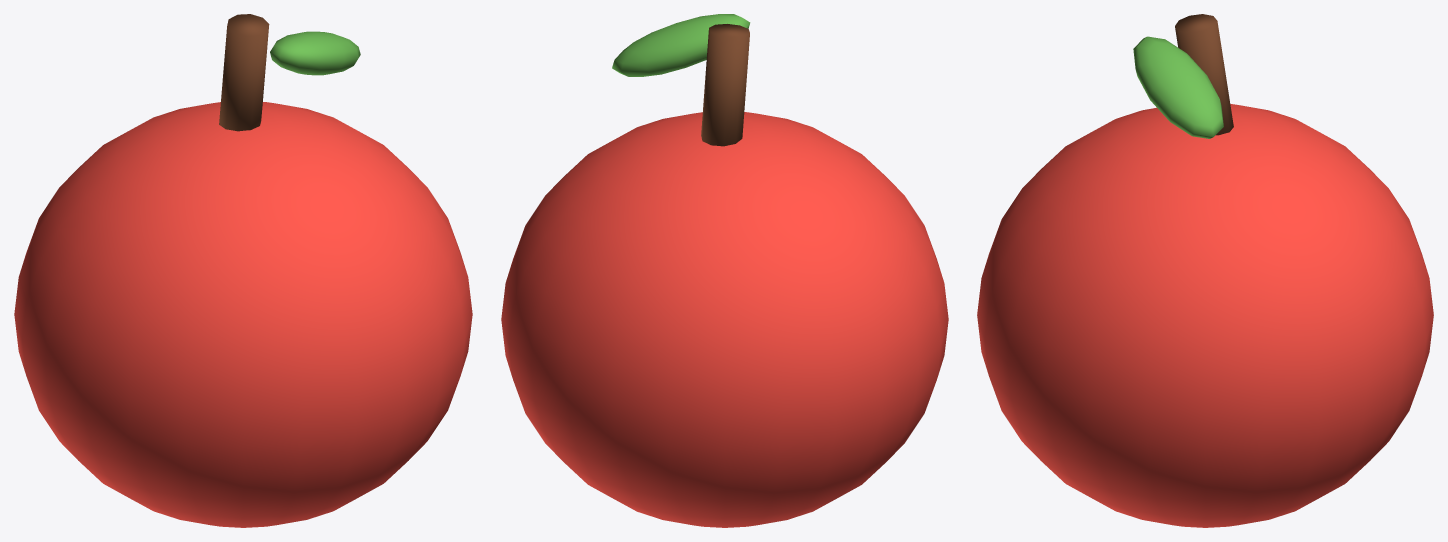
File: apple.glb
3 views of the same model, side by side, from view 1: azimuth 30°, elevation 25°; view 2: azimuth 150°, elevation 25°; view 3: azimuth 270°, elevation 25° (orthographic). The views are drawn at different scales.
Parts seen in each view (by area): view 1: Apple; view 2: Apple; view 3: Apple.
Part boxes in pixels (x1,y1,x2,y2): Apple: (14, 14, 472, 527); Apple: (501, 14, 948, 527); Apple: (977, 14, 1433, 527).
Bounding box in the file's own units: 0.17 × 0.1991 × 0.17.
